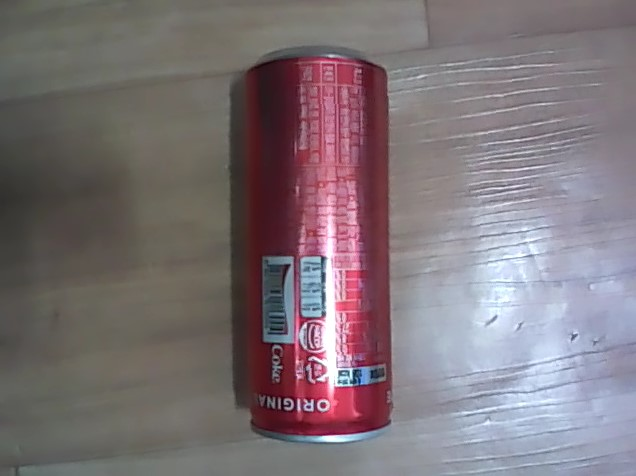Can: (222, 40, 396, 449)
